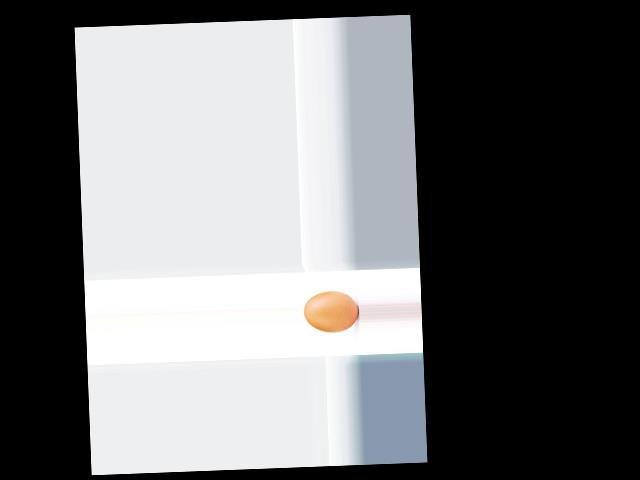egg: (303, 290, 359, 333)
